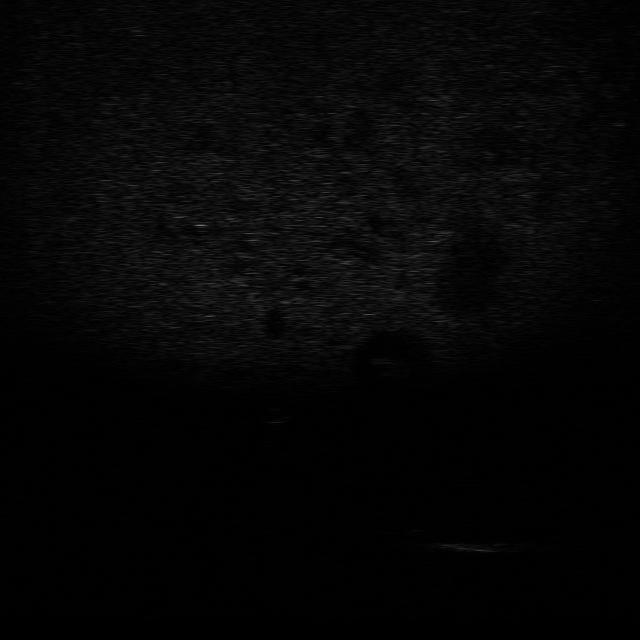ball: (256, 405, 296, 426)
metal bucket: (425, 533, 520, 558)
tyre: (353, 511, 435, 536)
